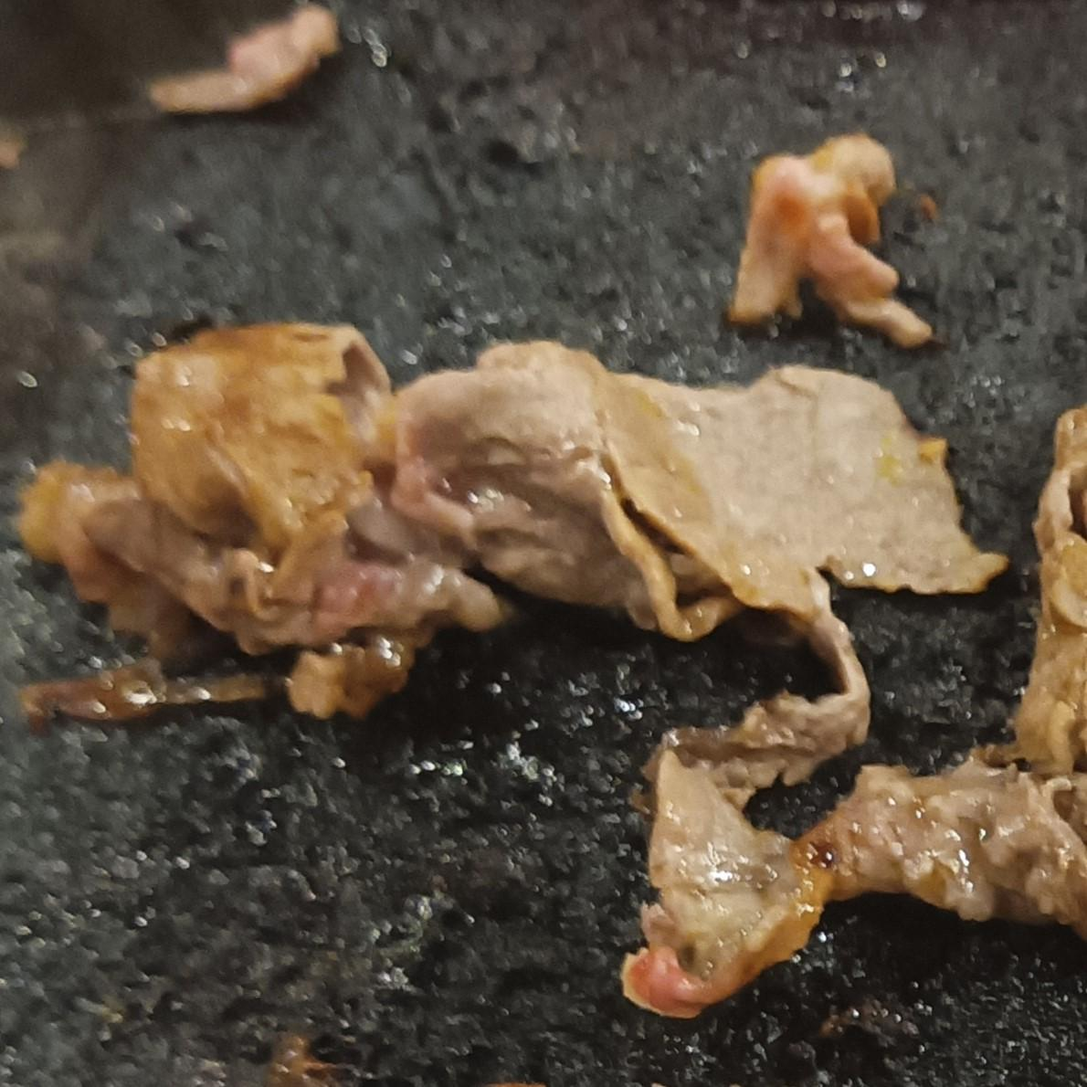Well-Cooked: (16, 323, 1086, 1021), (724, 132, 937, 353)
